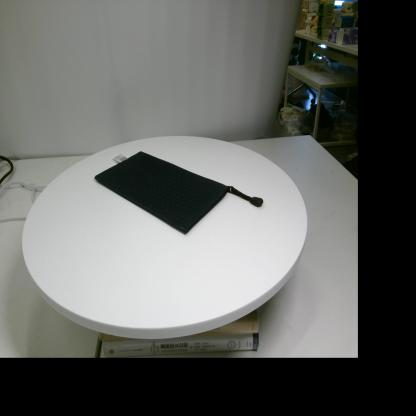Stationery: (94, 151, 264, 234)
